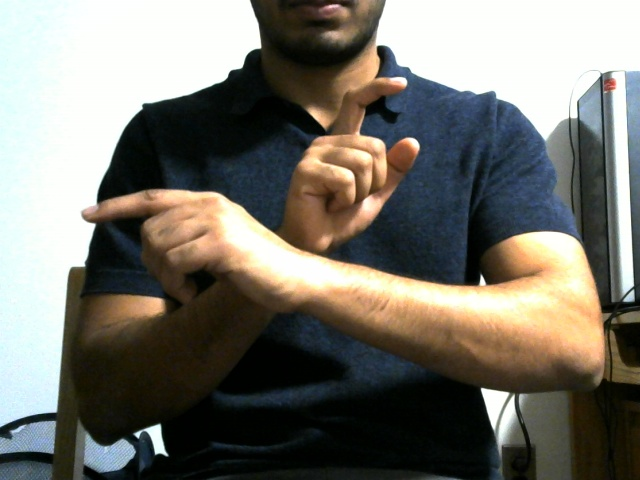call: (64, 68, 468, 323)
